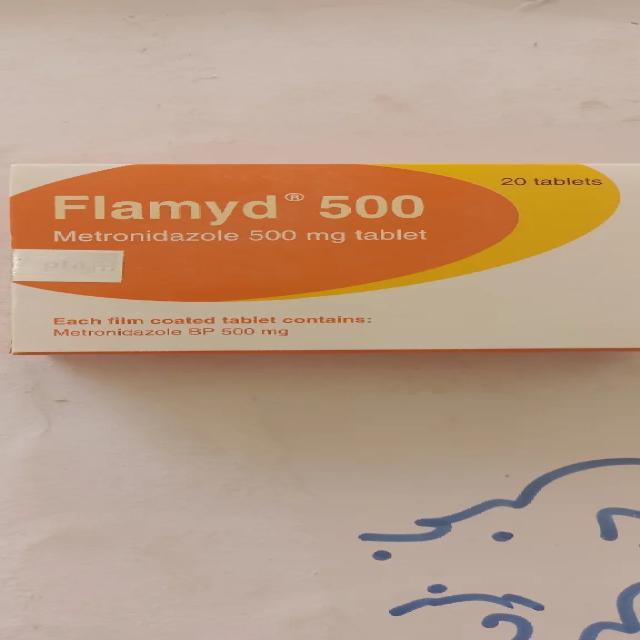drug-name: (53, 192, 425, 224)
